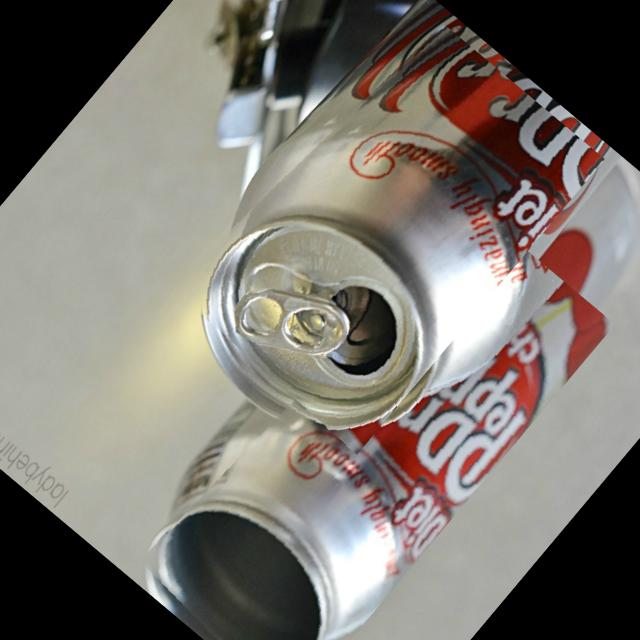Cans: (126, 186, 614, 640), (164, 0, 604, 453)
